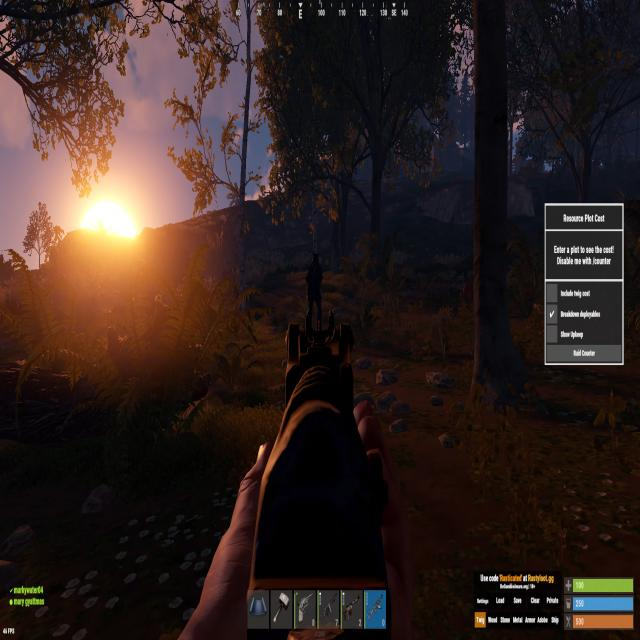Player: (306, 248, 323, 315)
